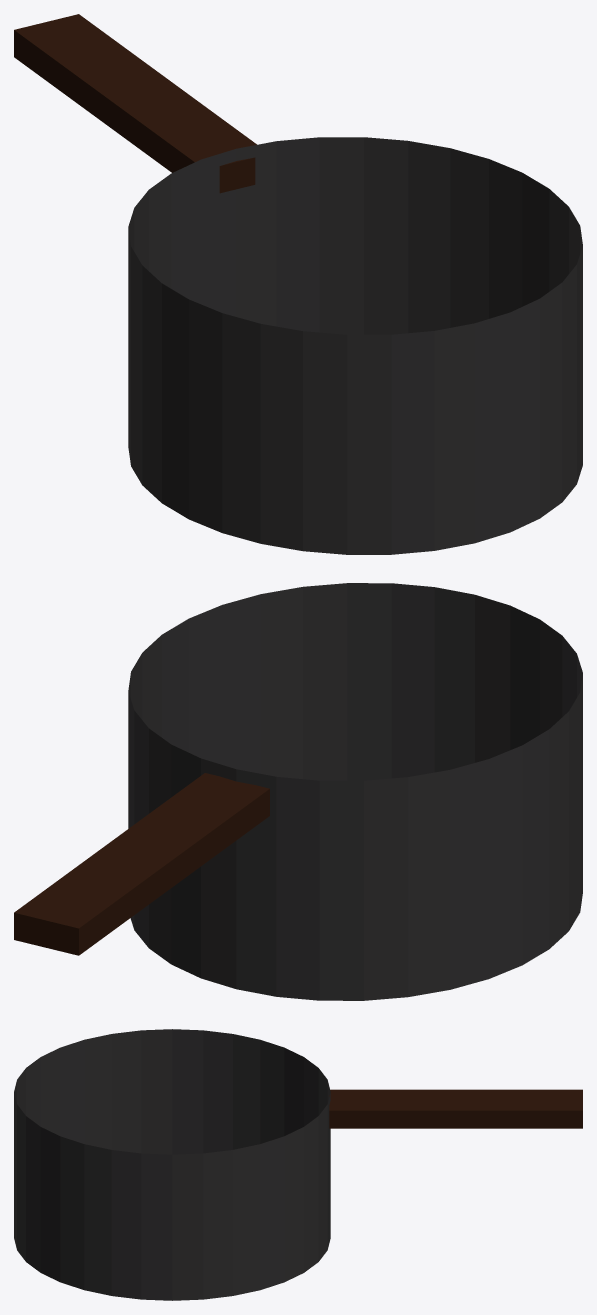
The model's file is Pot.fbx.
3 views of the same model, one above another, from view 1: azimuth 30°, elevation 25°; view 2: azimuth 150°, elevation 25°; view 3: azimuth 270°, elevation 25° (orthographic). The views are drawn at different scales.
Visible parts, largest first — view 1: Cylinder, Cube; view 2: Cylinder, Cube; view 3: Cylinder, Cube.
Part boxes in pixels (x1,y1,x2,y2): Cylinder: (128, 137, 582, 554); Cube: (14, 14, 256, 193); Cylinder: (128, 583, 582, 1000); Cube: (14, 773, 269, 955); Cylinder: (14, 1029, 330, 1300); Cube: (329, 1089, 582, 1128).
Size of the model in its own units: 75.1 by 40.76 by 144.
